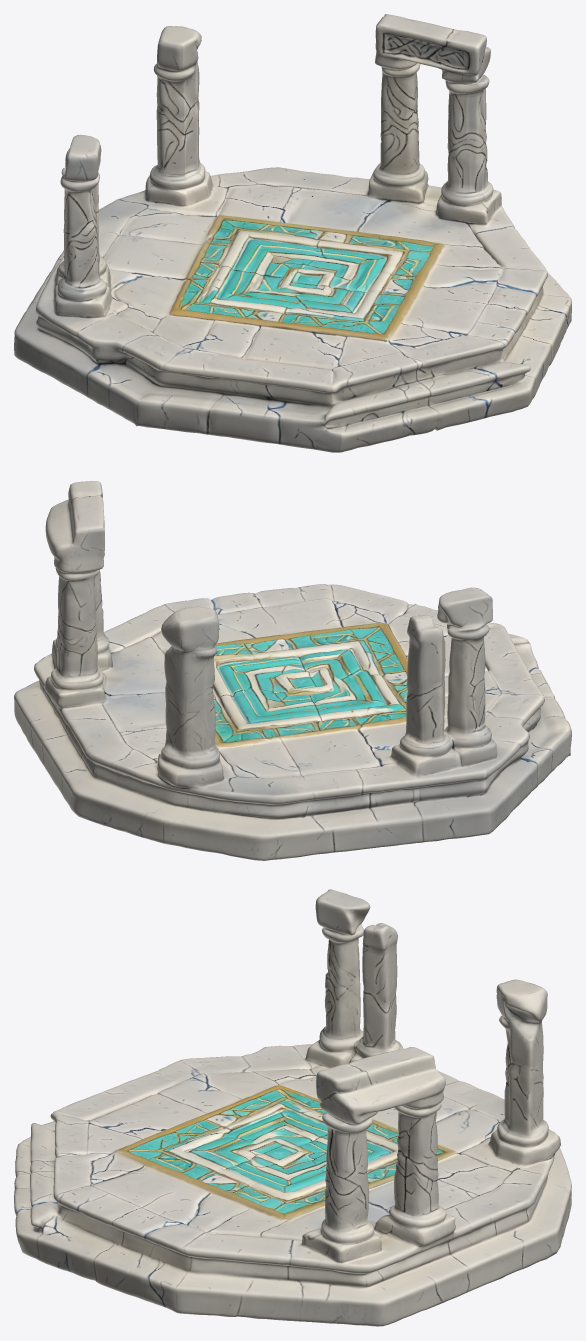
The model's file is starting_ruins.glb.
3 renders of one model, top to bottom at view 1: azimuth 30°, elevation 25°; view 2: azimuth 150°, elevation 25°; view 3: azimuth 270°, elevation 25°, orthographic.
Visible parts, largest first — view 1: model; view 2: model; view 3: model.
Boxes of the visible parts, left/top/right/bottom form: model: left=14, top=14, right=571, bottom=452; model: left=14, top=481, right=571, bottom=860; model: left=14, top=889, right=571, bottom=1326.
Bounding box in the file's own units: 1.89 × 0.8615 × 1.88.
Materials: 1 (1 with a texture image).
